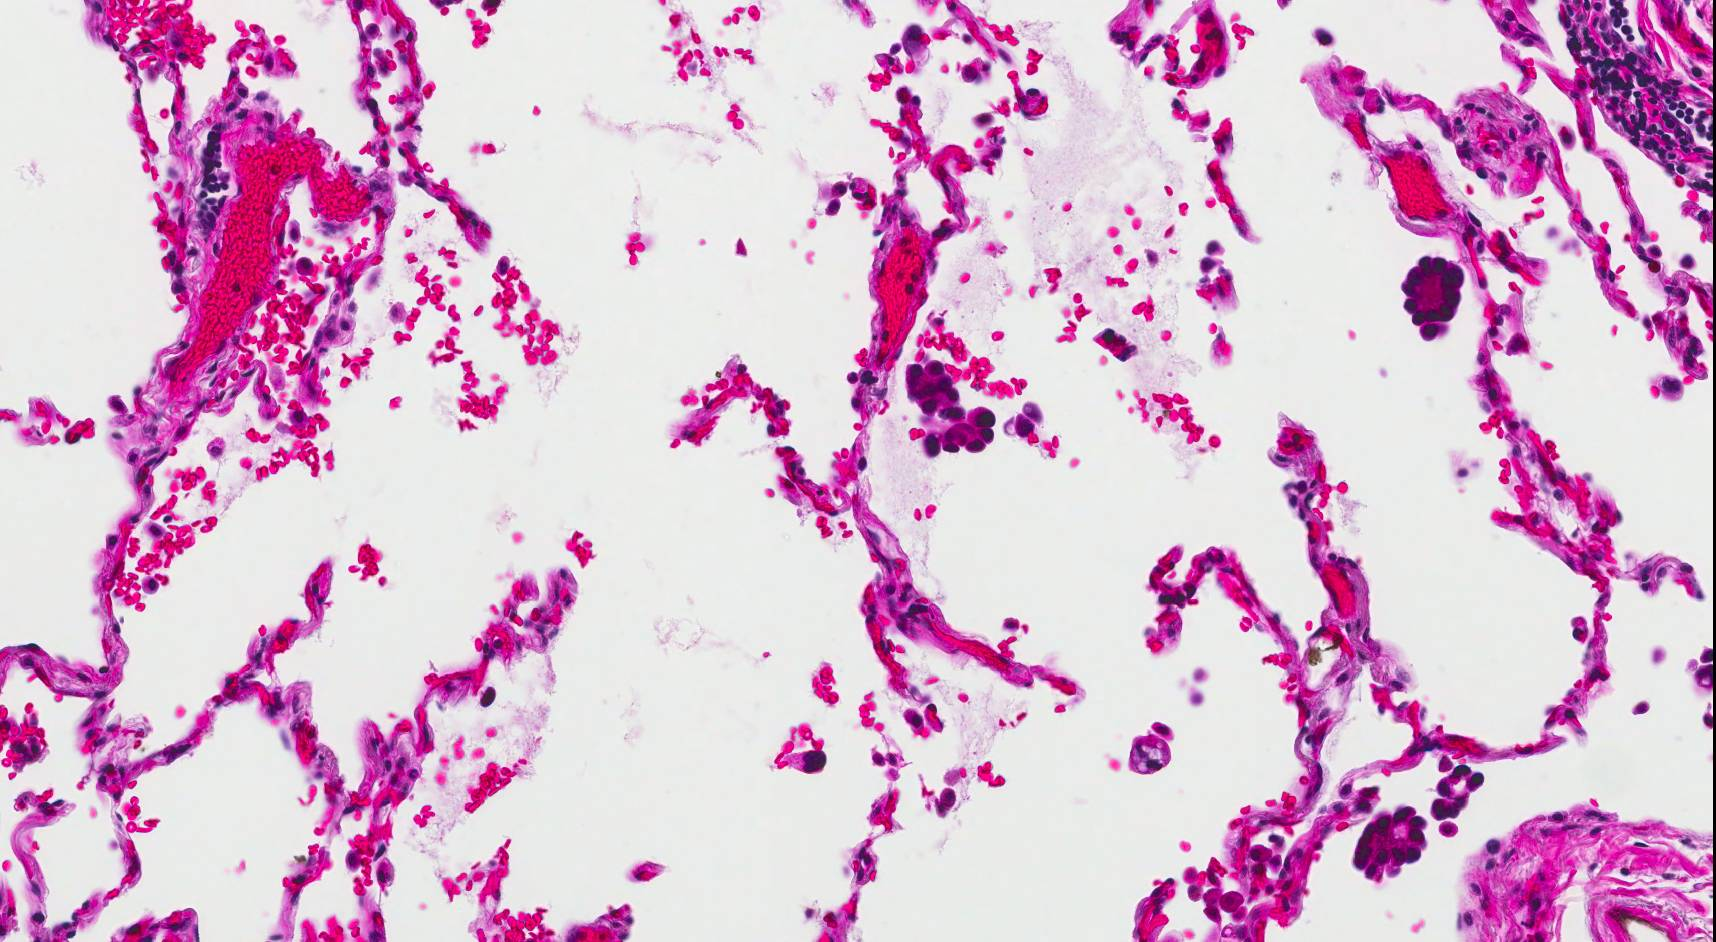stas: (907, 360, 998, 457), (1352, 805, 1433, 881), (1400, 255, 1468, 341), (1429, 763, 1487, 826), (998, 398, 1050, 444), (1122, 735, 1175, 779), (777, 747, 831, 777)
